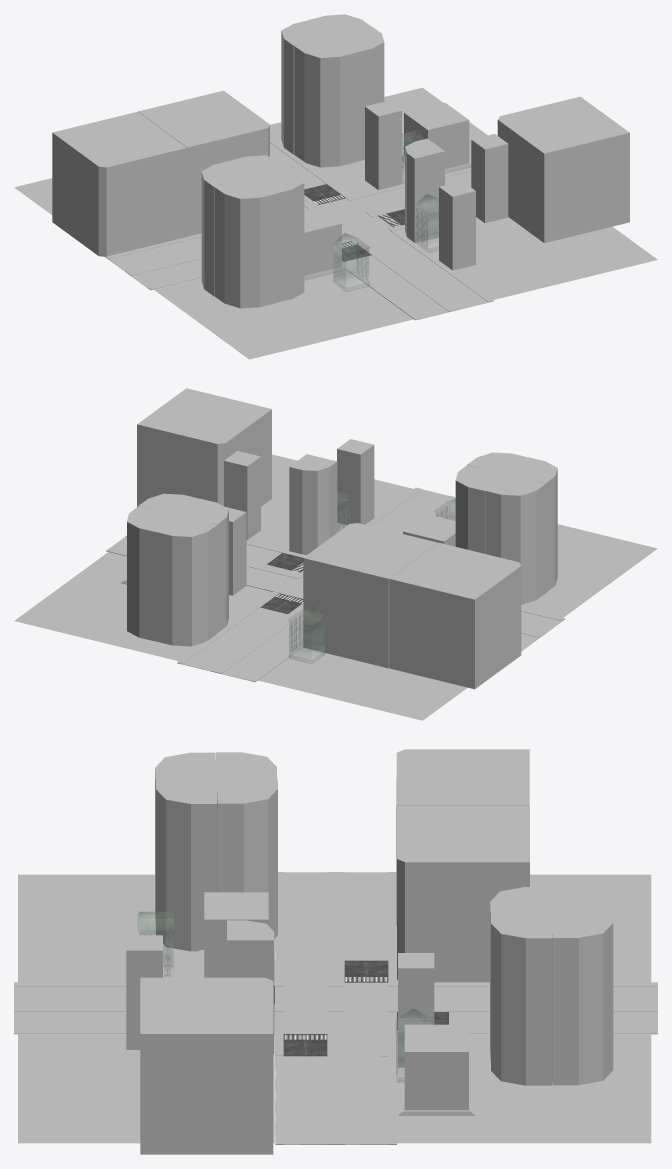
File: streets.fbx
3 views of the same model, one above another, from view 1: azimuth 30°, elevation 25°; view 2: azimuth 150°, elevation 25°; view 3: azimuth 270°, elevation 25° (orthographic). The views are drawn at different scales.
Parts seen in each view (by area): view 1: Cube.002, Cube.006, Plane, pCube1.020, Cube.001, Cube.101, TownHouse_A.001; view 2: Cube.002, Cube.006, Plane, pCube1.020, Cube.001, TownHouse_A.001, Cube.101; view 3: Cube.002, Plane, Cube.006, pCube1.020, Cube.101, Cube.001, TownHouse_A.001.
Boxes of the visible parts, x1=… form: Cube.002: x1=52, y1=90, x2=629, y2=256; Cube.006: x1=201, y1=14, x2=444, y2=308; Plane: x1=14, y1=87, x2=657, y2=359; pCube1.020: x1=105, y1=137, x2=493, y2=320; Cube.001: x1=365, y1=100, x2=508, y2=270; Cube.101: x1=304, y1=102, x2=471, y2=280; TownHouse_A.001: x1=332, y1=130, x2=438, y2=291; Cube.002: x1=137, y1=388, x2=521, y2=689; Cube.006: x1=127, y1=452, x2=557, y2=646; Plane: x1=14, y1=454, x2=657, y2=720; pCube1.020: x1=106, y1=487, x2=564, y2=682; Cube.001: x1=224, y1=439, x2=374, y2=595; TownHouse_A.001: x1=288, y1=486, x2=455, y2=663; Cube.101: x1=121, y1=514, x2=455, y2=584; Cube.002: x1=140, y1=749, x2=529, y2=1154; Plane: x1=18, y1=874, x2=651, y2=1143; Cube.006: x1=155, y1=752, x2=613, y2=1085; pCube1.020: x1=14, y1=872, x2=657, y2=1144; Cube.101: x1=198, y1=892, x2=474, y2=1115; Cube.001: x1=126, y1=935, x2=434, y2=1067; TownHouse_A.001: x1=138, y1=912, x2=431, y2=1082.
Size of the model in its own units: 15471 by 3744 by 14801.
